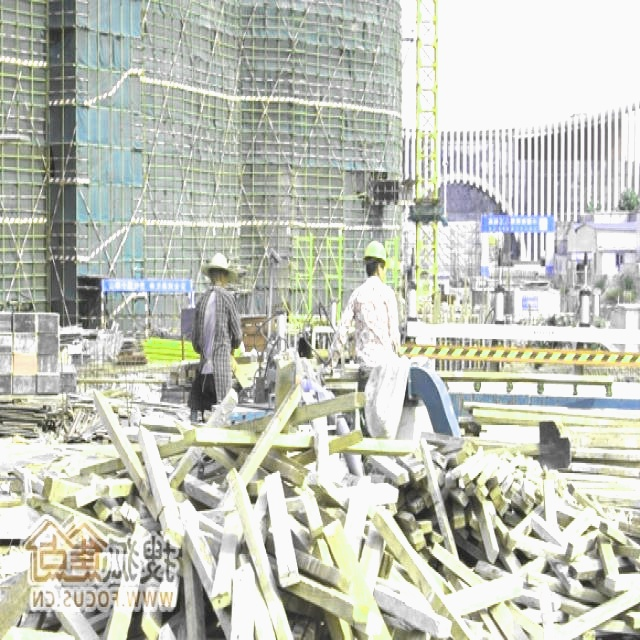Con_Casco: (363, 241, 388, 279)
Sin_Chaleco: (355, 280, 394, 365), (195, 288, 231, 375)
